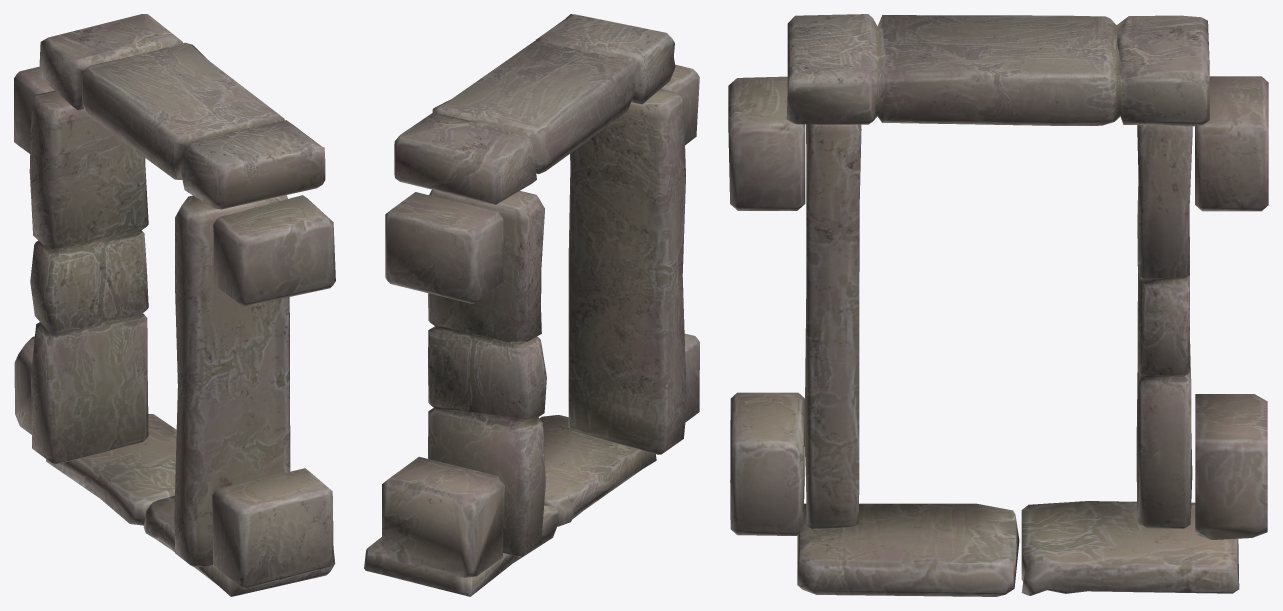
The model's file is Door.fbx.
3 renders of one model, left to right at view 1: azimuth 30°, elevation 25°; view 2: azimuth 150°, elevation 25°; view 3: azimuth 270°, elevation 25°, orthographic. The views are drawn at different scales.
Visible parts, largest first — view 1: stoneElements_05_lp__0, stoneElements_02_lp__0, stoneElements_06_lp__0, stoneElements_01_lp__0.001, stoneElements_01_lp__0, stoneElements_03_lp__0, stoneElements_04_lp__0, stoneElements_01_lp__0.002, stoneElements_01_lp__0.003; view 2: stoneElements_06_lp__0, stoneElements_02_lp__0, stoneElements_05_lp__0, stoneElements_01_lp__0.003, stoneElements_01_lp__0.002, stoneElements_04_lp__0, stoneElements_03_lp__0, stoneElements_01_lp__0, stoneElements_01_lp__0.001; view 3: stoneElements_02_lp__0, stoneElements_06_lp__0, stoneElements_05_lp__0, stoneElements_04_lp__0, stoneElements_03_lp__0, stoneElements_01_lp__0.001, stoneElements_01_lp__0.003, stoneElements_01_lp__0, stoneElements_01_lp__0.002.
Part boxes in pixels (x1=…): stoneElements_05_lp__0: x1=29, y1=90, x2=148, y2=464; stoneElements_02_lp__0: x1=39, y1=14, x2=325, y2=209; stoneElements_06_lp__0: x1=174, y1=195, x2=290, y2=567; stoneElements_01_lp__0.001: x1=212, y1=468, x2=333, y2=589; stoneElements_01_lp__0: x1=213, y1=195, x2=335, y2=306; stoneElements_03_lp__0: x1=46, y1=414, x2=176, y2=525; stoneElements_04_lp__0: x1=143, y1=496, x2=335, y2=596; stoneElements_01_lp__0.002: x1=14, y1=66, x2=54, y2=153; stoneElements_01_lp__0.003: x1=14, y1=336, x2=34, y2=434; stoneElements_06_lp__0: x1=568, y1=89, x2=686, y2=454; stoneElements_02_lp__0: x1=394, y1=14, x2=675, y2=204; stoneElements_05_lp__0: x1=428, y1=189, x2=546, y2=557; stoneElements_01_lp__0.003: x1=382, y1=457, x2=504, y2=577; stoneElements_01_lp__0.002: x1=385, y1=192, x2=503, y2=303; stoneElements_04_lp__0: x1=539, y1=415, x2=656, y2=526; stoneElements_03_lp__0: x1=364, y1=503, x2=558, y2=596; stoneElements_01_lp__0: x1=661, y1=64, x2=699, y2=145; stoneElements_01_lp__0.001: x1=684, y1=333, x2=699, y2=422; stoneElements_02_lp__0: x1=786, y1=14, x2=1209, y2=126; stoneElements_06_lp__0: x1=804, y1=124, x2=861, y2=529; stoneElements_05_lp__0: x1=1136, y1=125, x2=1192, y2=528; stoneElements_04_lp__0: x1=797, y1=503, x2=1019, y2=596; stoneElements_03_lp__0: x1=1021, y1=501, x2=1239, y2=595; stoneElements_01_lp__0.001: x1=730, y1=392, x2=804, y2=535; stoneElements_01_lp__0.003: x1=1195, y1=394, x2=1267, y2=539; stoneElements_01_lp__0: x1=728, y1=76, x2=805, y2=210; stoneElements_01_lp__0.002: x1=1195, y1=76, x2=1268, y2=211.
Bounding box in the file's own units: 176 × 495 × 469.
1 material, 1 textured.
